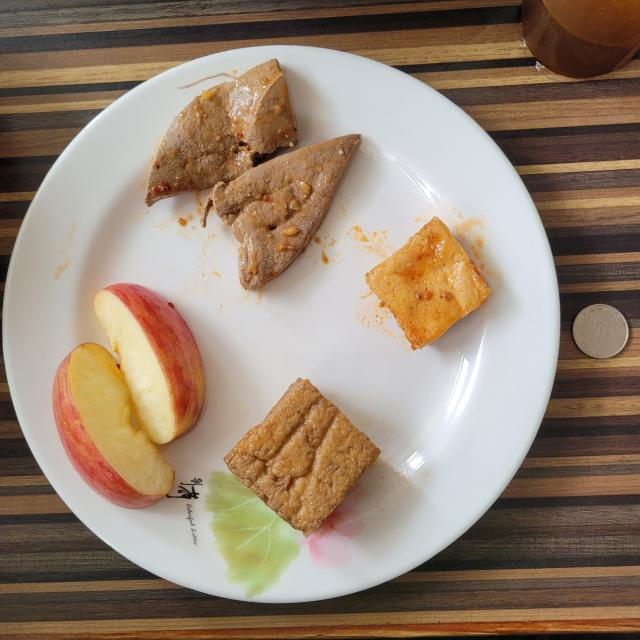apple -sliced-: (52, 284, 205, 508)
coin: (572, 304, 629, 359)
creamy tofu: (366, 218, 490, 349)
egg tofu: (224, 379, 380, 536)
pig liver: (145, 59, 361, 289)
